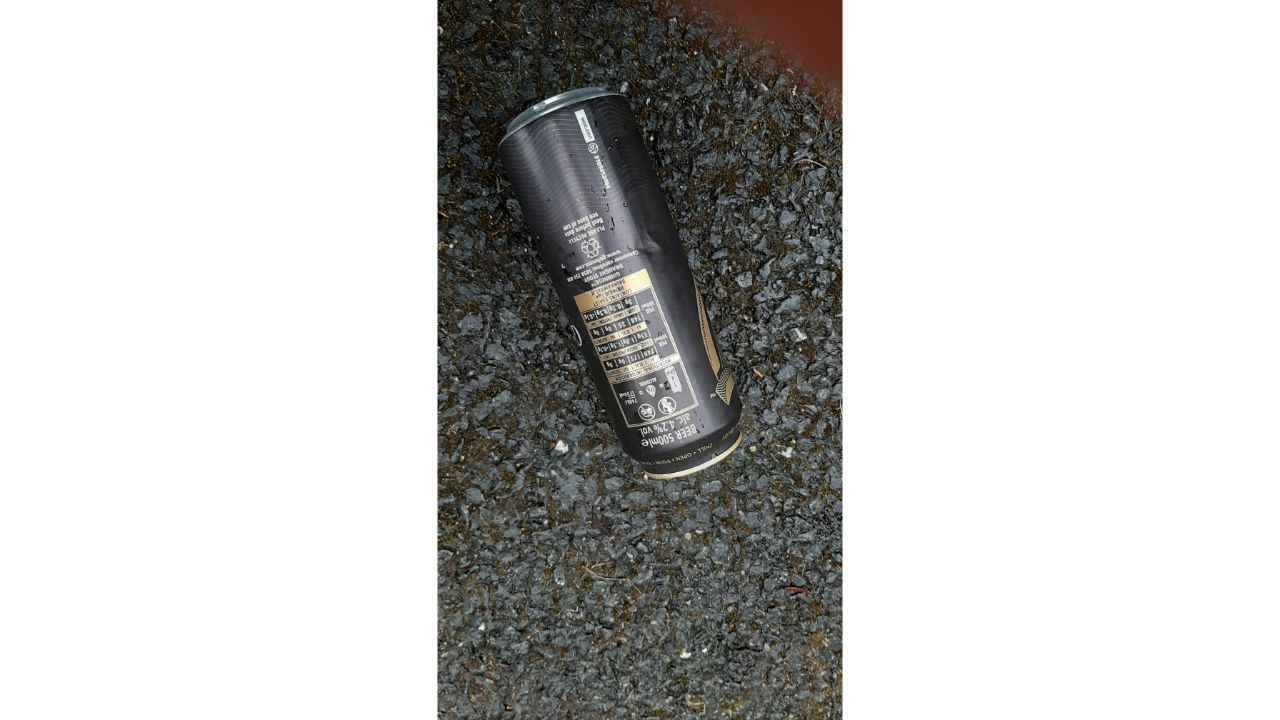Can: (488, 75, 749, 481)
